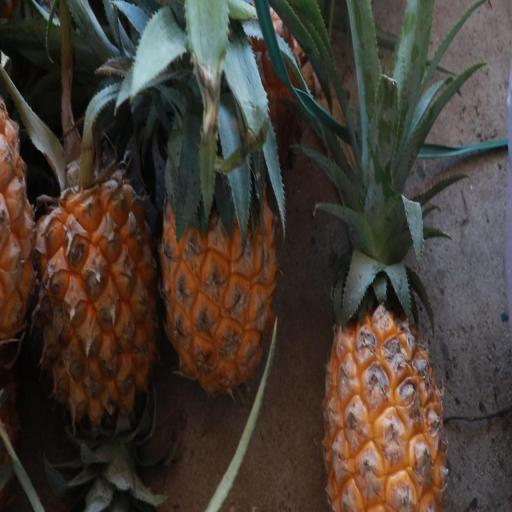Pineapple - v8 v1: (319, 139, 452, 512), (32, 94, 164, 439), (158, 80, 284, 404)
